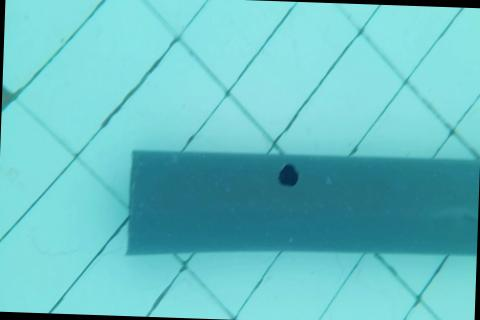kebocoran: (277, 161, 300, 188)
keretakan: (463, 214, 478, 252)
